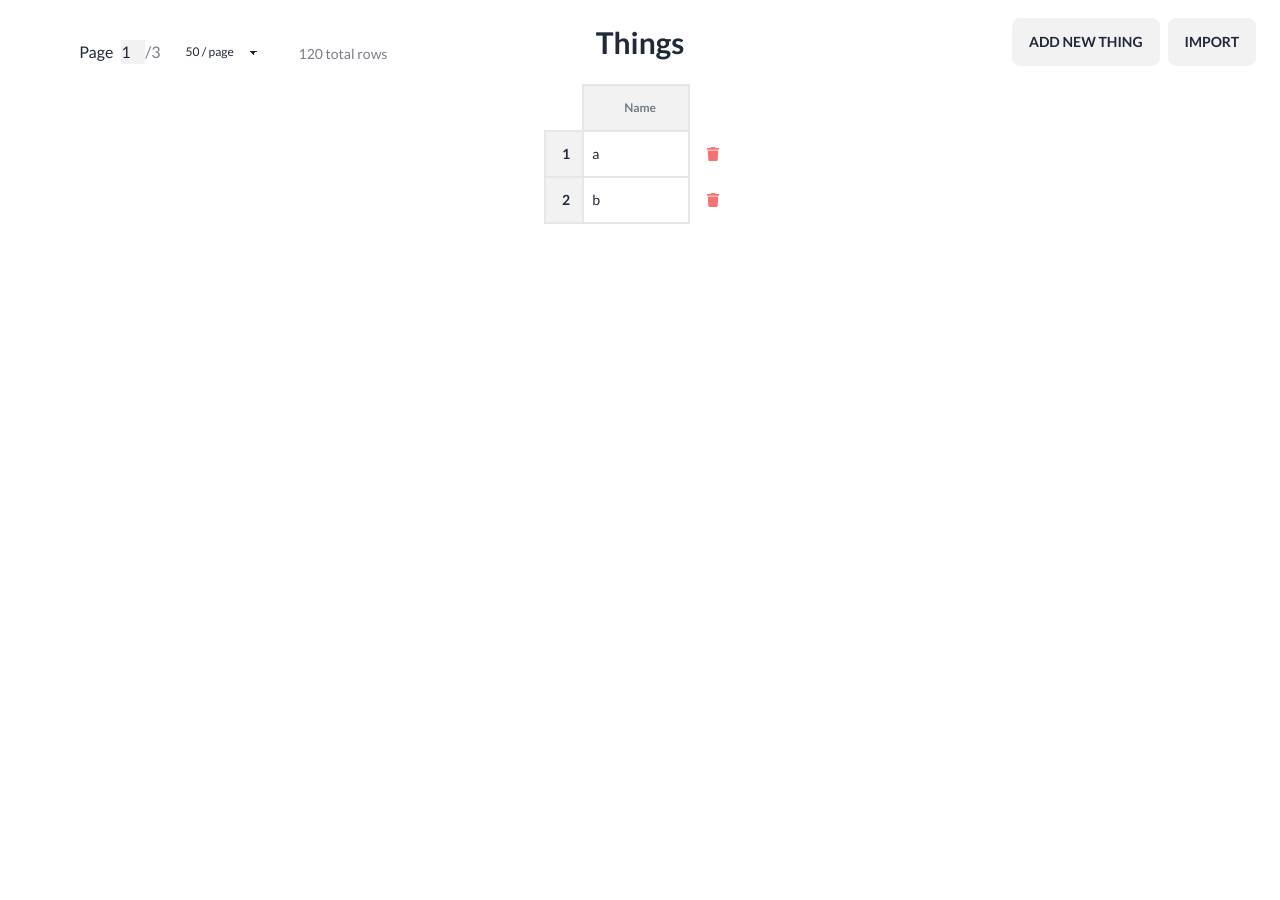
cascading delete › says when nothing else depends on the row
Click the 3rd cell.
click(712, 154)  # box left=689, top=131, right=736, bottom=177
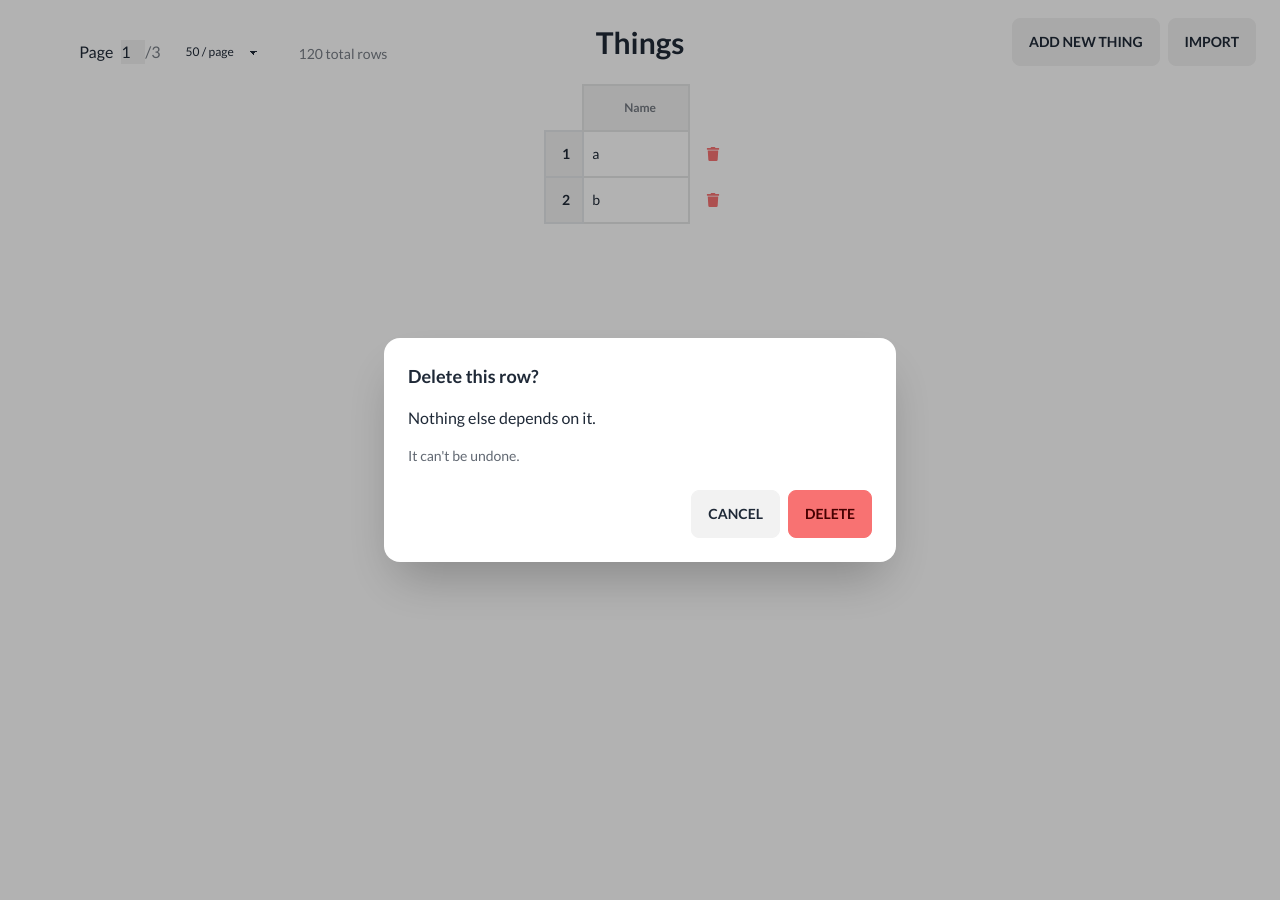
expect the text "Nothing else depends on it." is shown: met, box left=408, top=408, right=596, bottom=427
